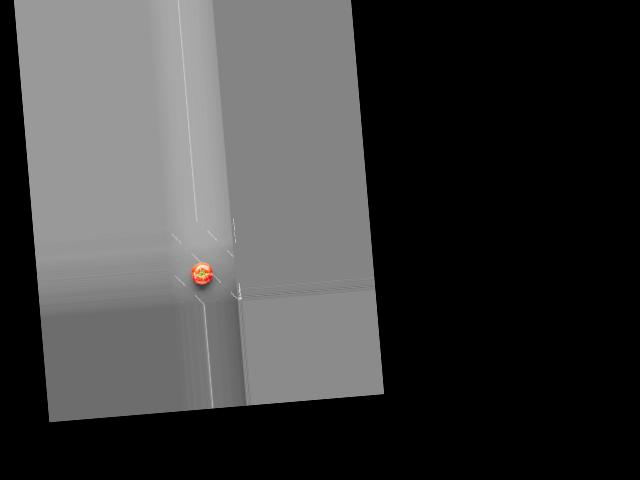tomato: (190, 260, 214, 285)
